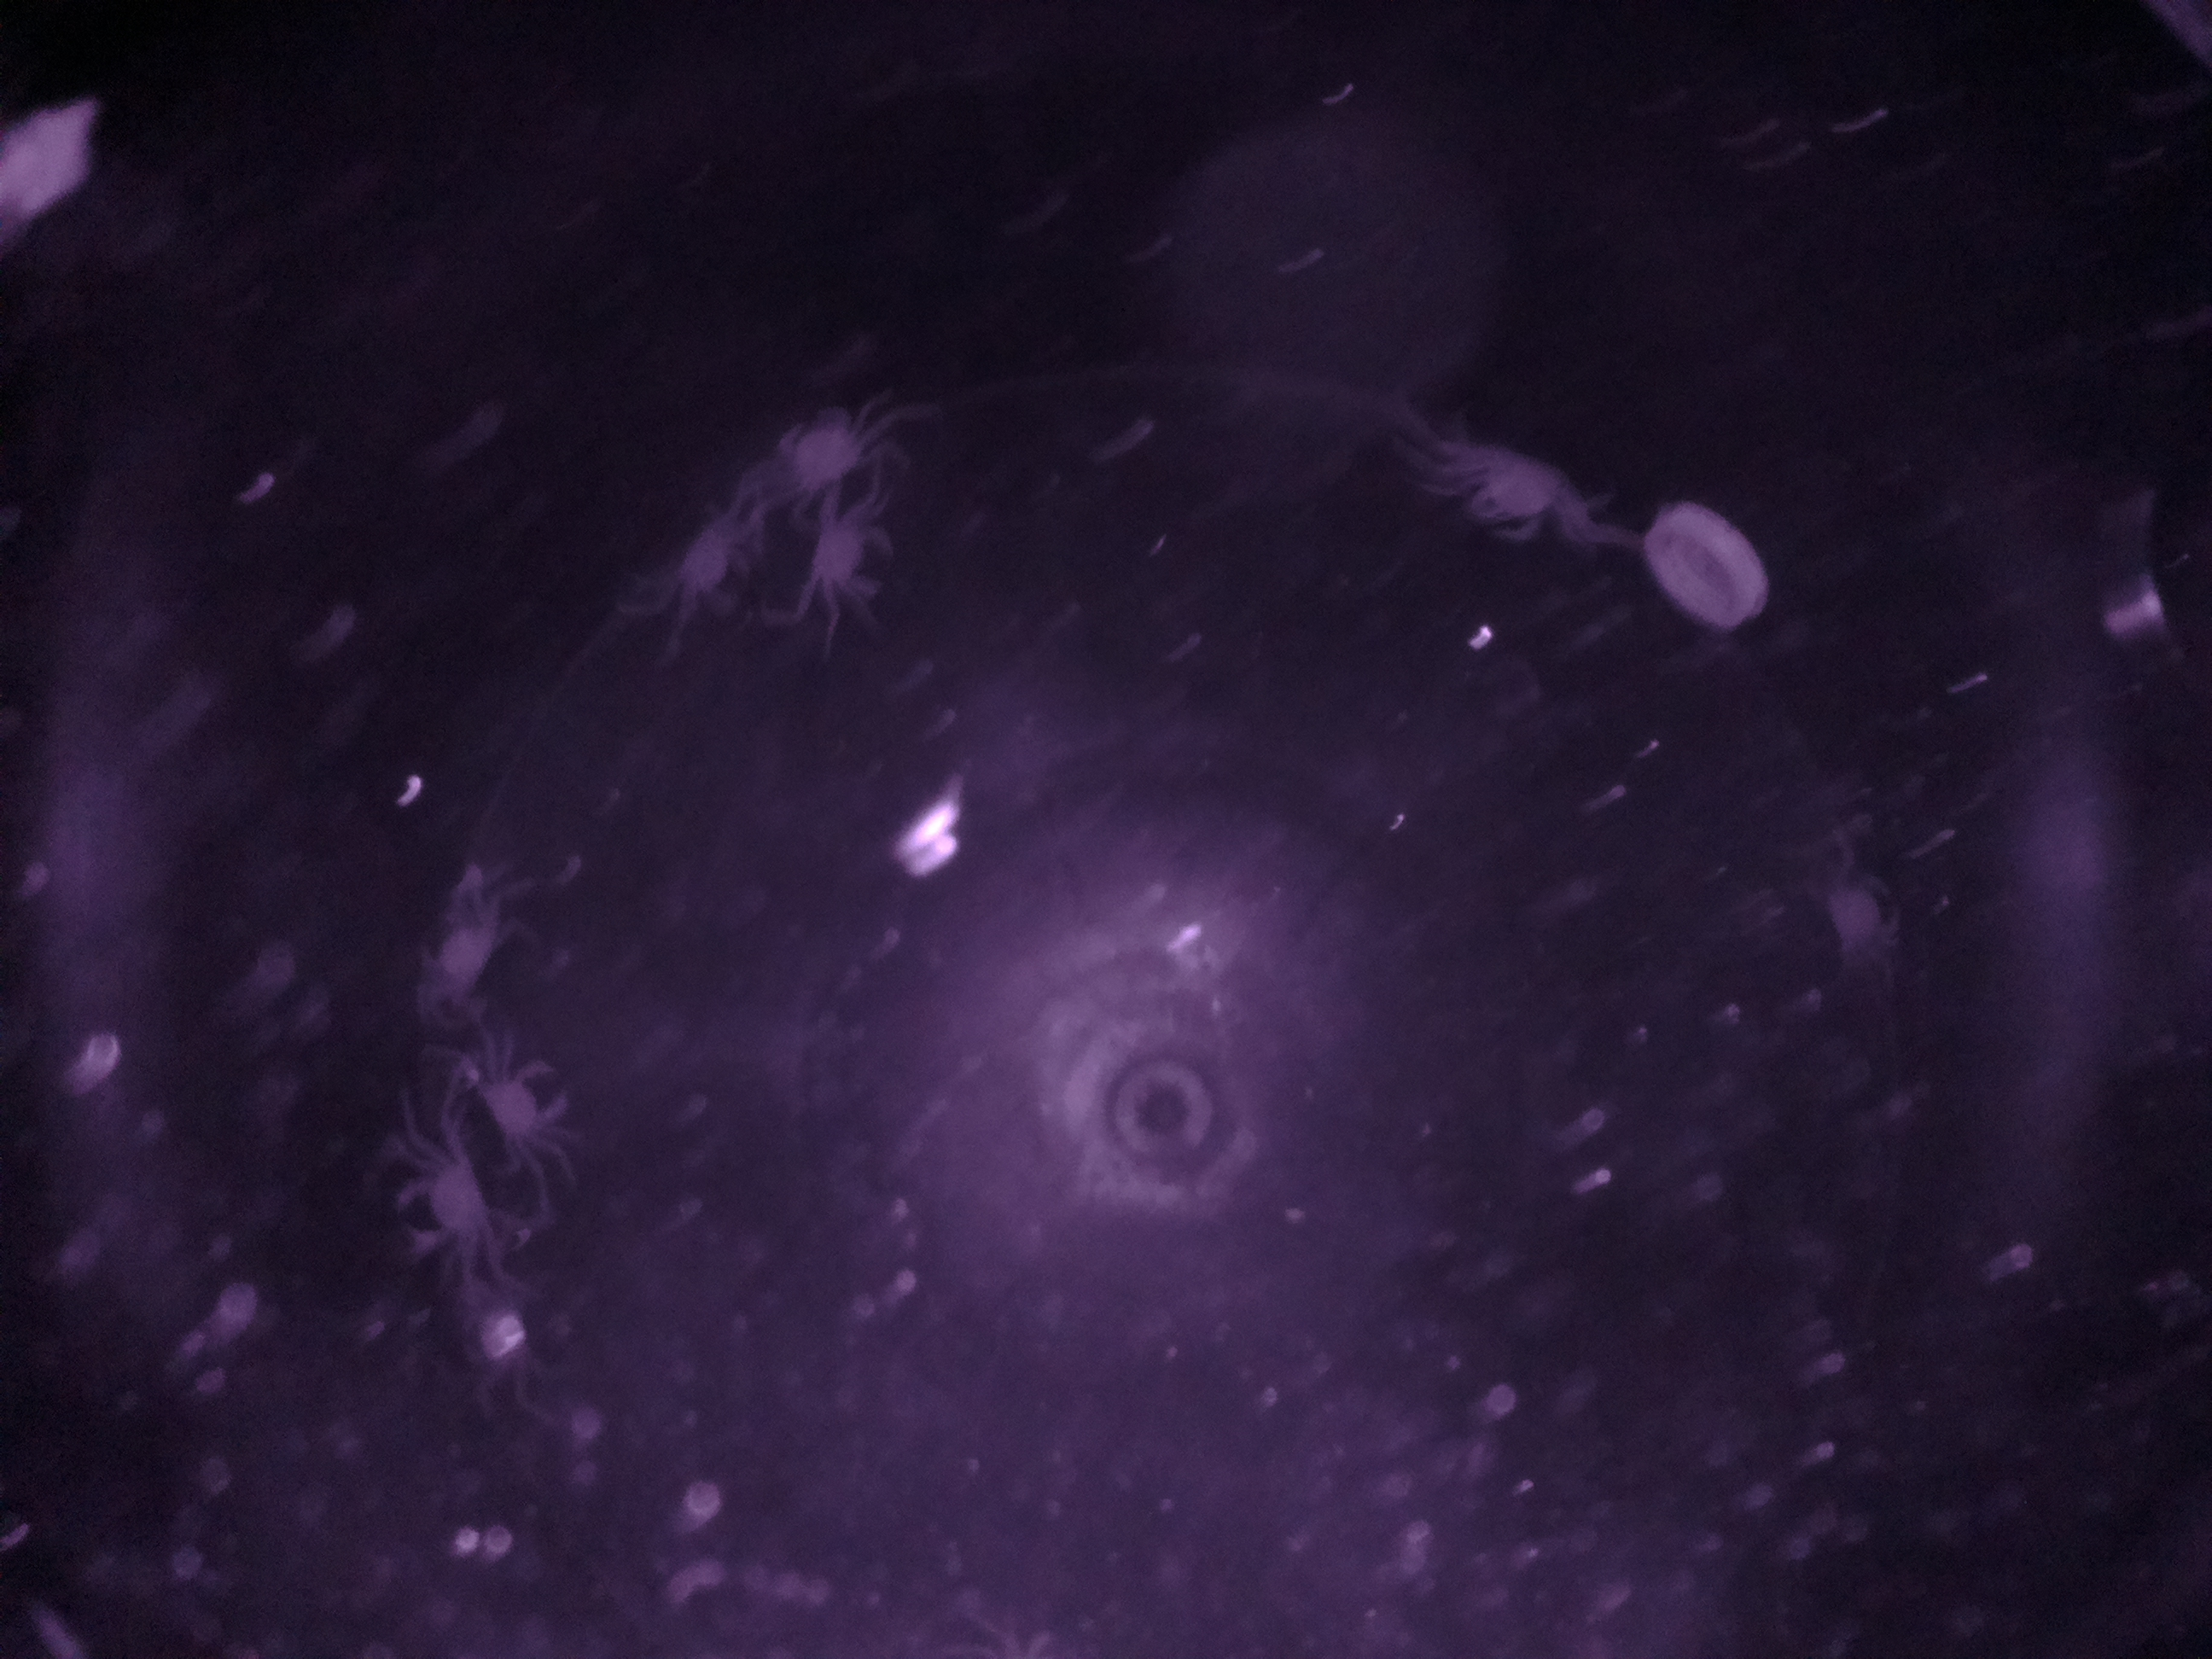Crab: (378, 1140, 514, 1288), (458, 1040, 594, 1168), (779, 505, 923, 613)
